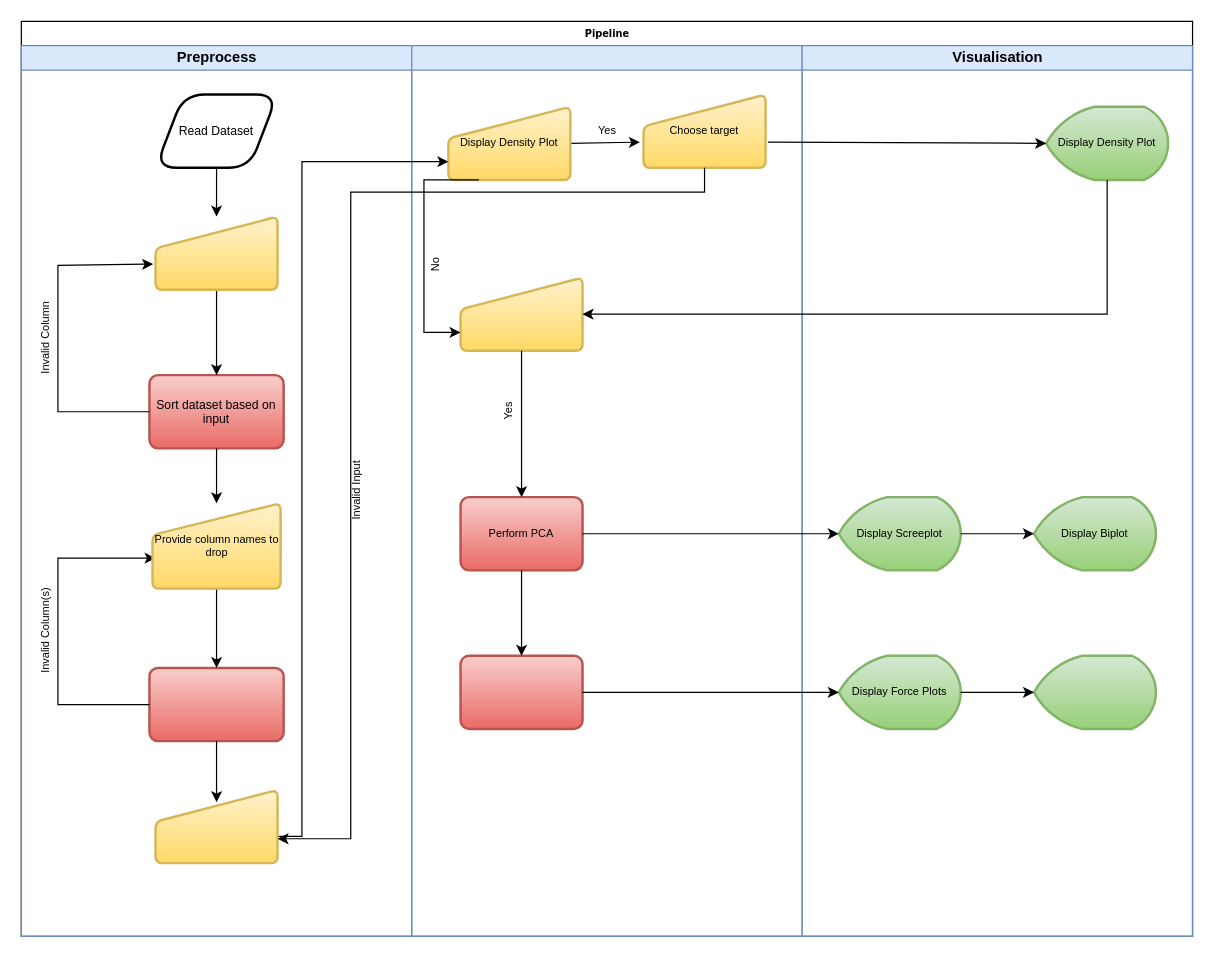
The diagram is 1214 pixels wide and 958 high, and some of its shapes have lost their labels. Each missing label, with the box of its shape:
Choose taxanomic level: (154, 788, 278, 864)
Display Summary Plots: (1032, 654, 1157, 730)
Drop columns based on input: (148, 666, 284, 742)
Process: (411, 45, 802, 936)
Recommendations: (459, 276, 583, 351)
Shapely: (459, 654, 583, 730)
Target Column: (154, 215, 278, 290)
